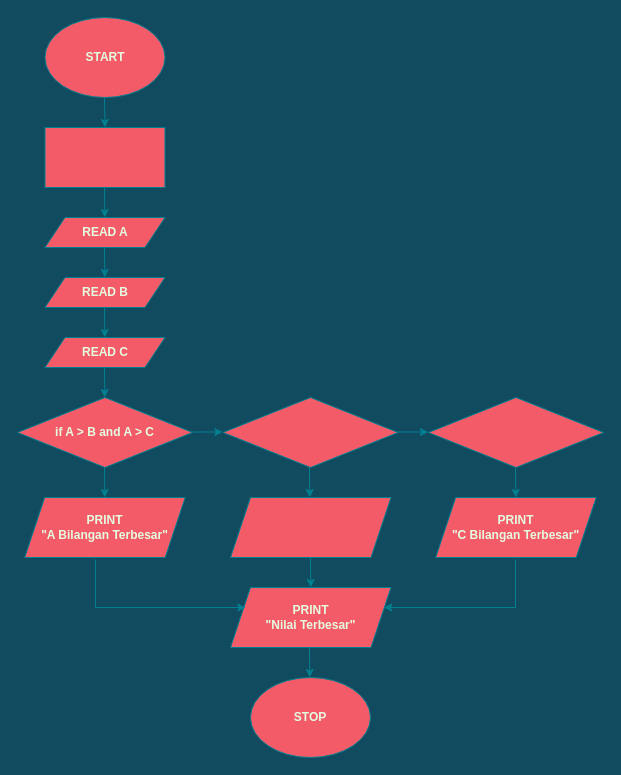
This 621x775 diagram has some shape labels left out. The centre of each missing label's shape, as x and y in pixels:
elif B > A and B > C: point (310, 432)
else: point (516, 432)
INT = A INT = B INT = C: point (104, 157)
PRINT "B Bilangan Terbesar": point (310, 527)
